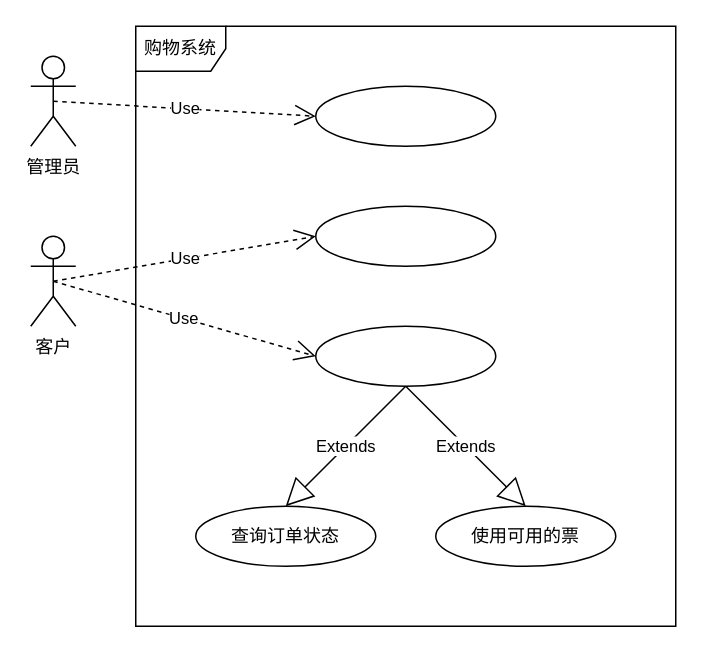
Some shapes in this 702 by 653 pixel diagram are drawn without their labels. Each missing label, with the centre of its shape:
最大票数设置: point 405,115
订单管理: point 405,355
订票: point 405,235
